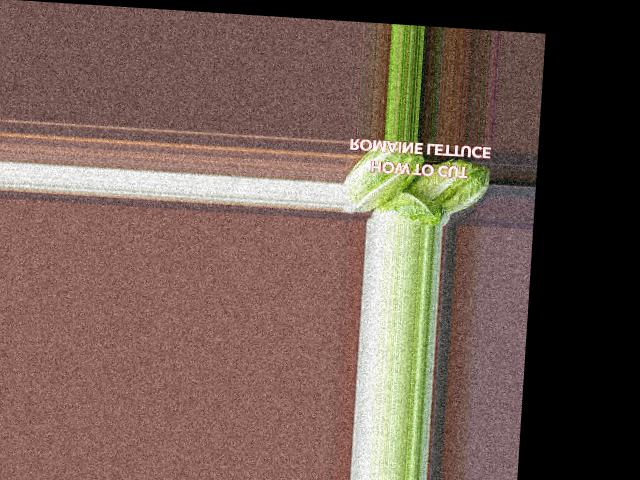lettuce: (398, 149, 494, 222)
